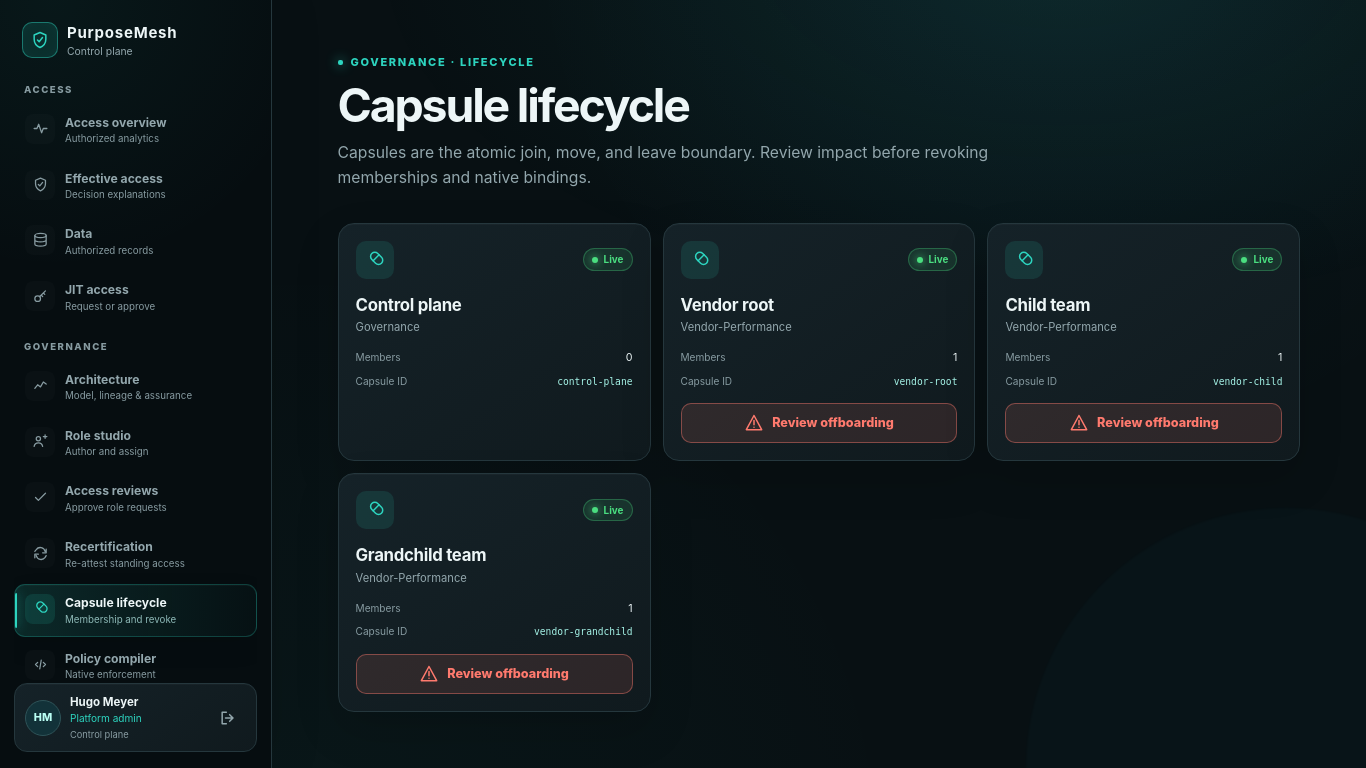
Test: authorization-aware navigation › previews and executes a recursive capsule offboarding blast radius
The width and height of the screenshot is (1366, 768).
Click the button "Review offboarding" below "vendor-root".
click(819, 423)  # box left=680, top=403, right=958, bottom=443
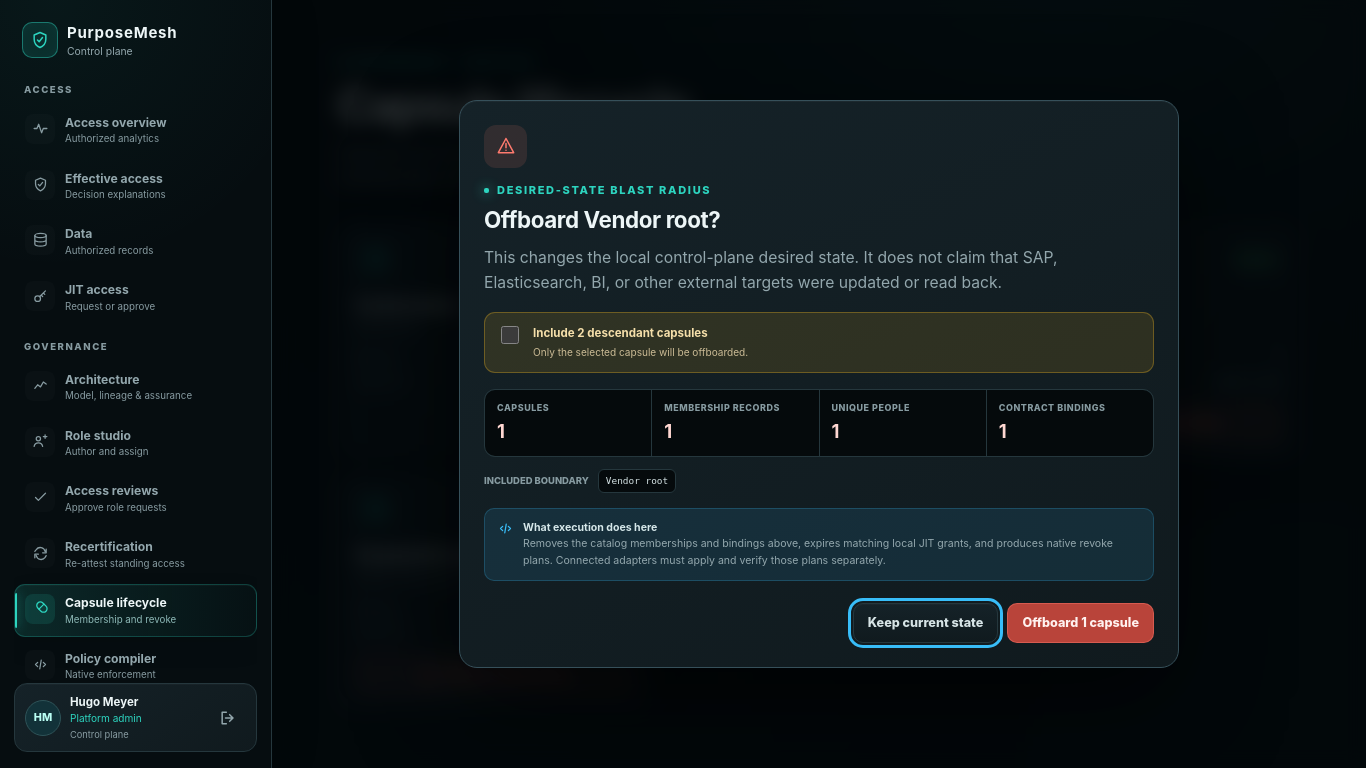
Expected: the text "does not claim that SAP, Elasticsearch, BI" is shown, left=484, top=248, right=1057, bottom=292
Expected: the button "Offboard 1 capsule" is shown, left=1007, top=603, right=1154, bottom=643
Click the checkbox labelled "Include 2 descendant capsules".
click(510, 335)  # box left=501, top=326, right=519, bottom=344
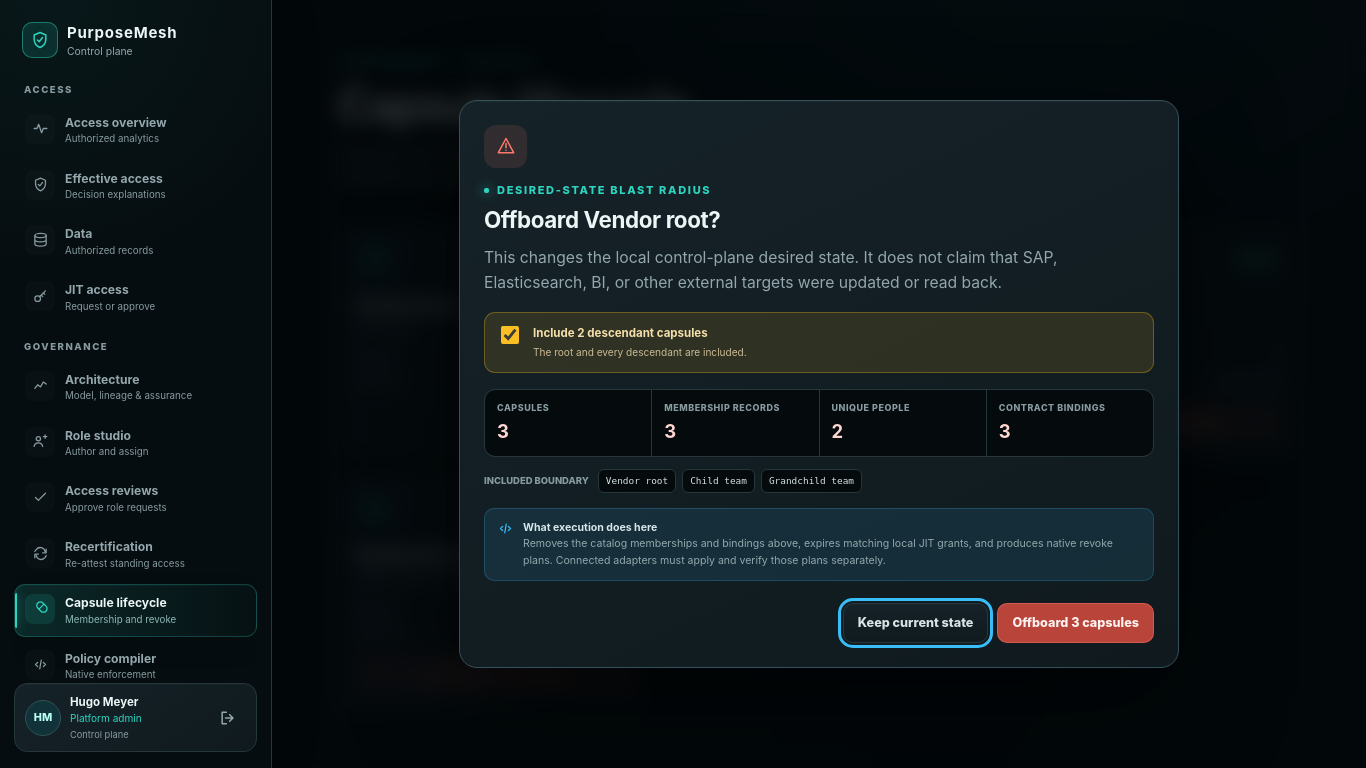
Expected: the button "Offboard 3 capsules" is shown
Click the button "Offboard 3 capsules".
click(1076, 623)  # box left=997, top=603, right=1154, bottom=643
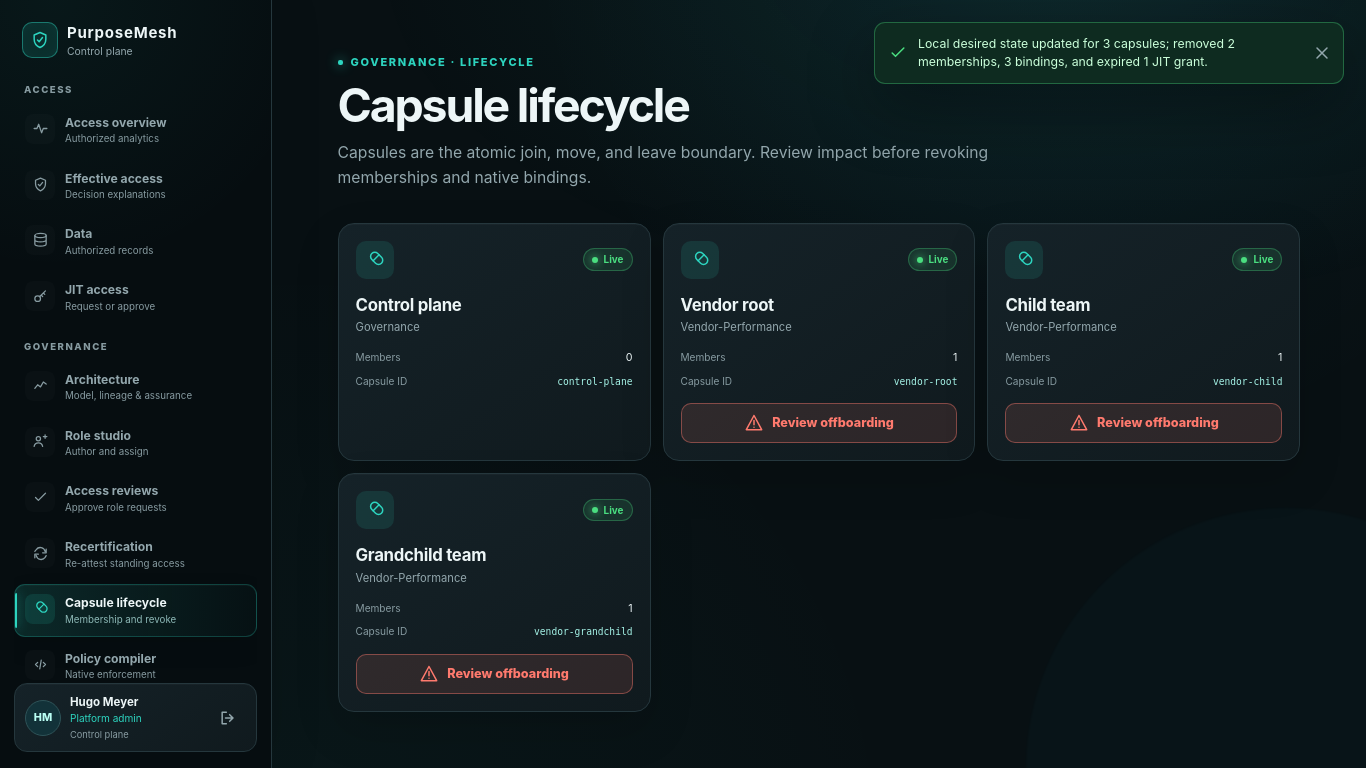
Expected: the message shows "Local desired state updated for 3 capsules", left=918, top=36, right=1235, bottom=69
